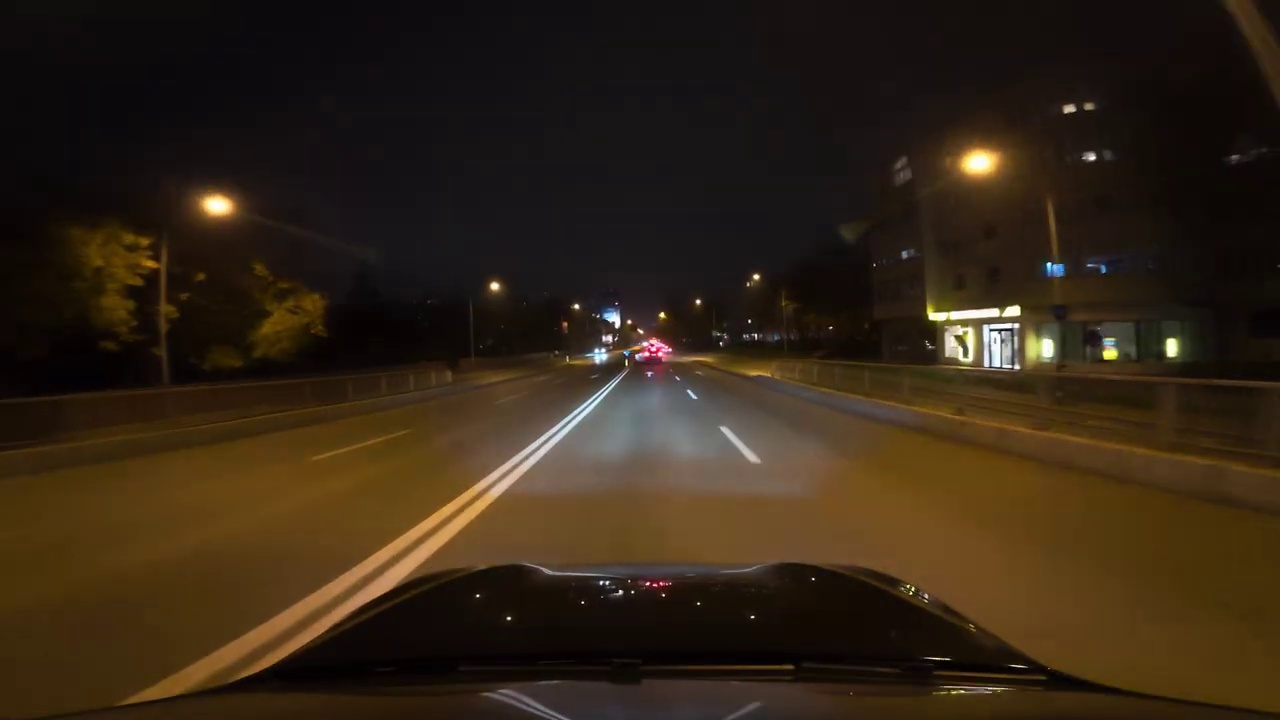acesa: (195, 185, 240, 229), (959, 148, 998, 180), (484, 277, 508, 300), (744, 269, 764, 290)
